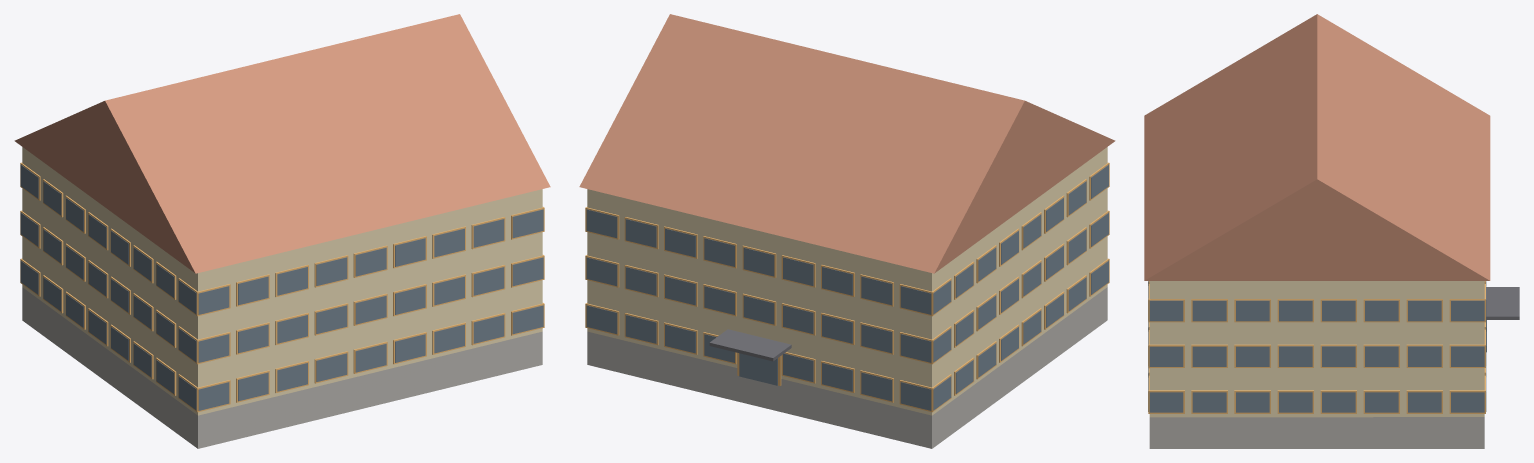
The model's file is kindergarten-668713576.glb.
3 renders of one model, left to right at view 1: azimuth 30°, elevation 25°; view 2: azimuth 150°, elevation 25°; view 3: azimuth 270°, elevation 25°, orthographic. The views are drawn at different scales.
Parts seen in each view (by area): view 1: building; view 2: building; view 3: building.
Part boxes in pixels (bbox=[...]): building: bbox=[14, 14, 550, 448]; building: bbox=[579, 14, 1115, 448]; building: bbox=[1144, 14, 1519, 448].
Bounding box in the file's own units: 27.86 × 21.4 × 26.77.
